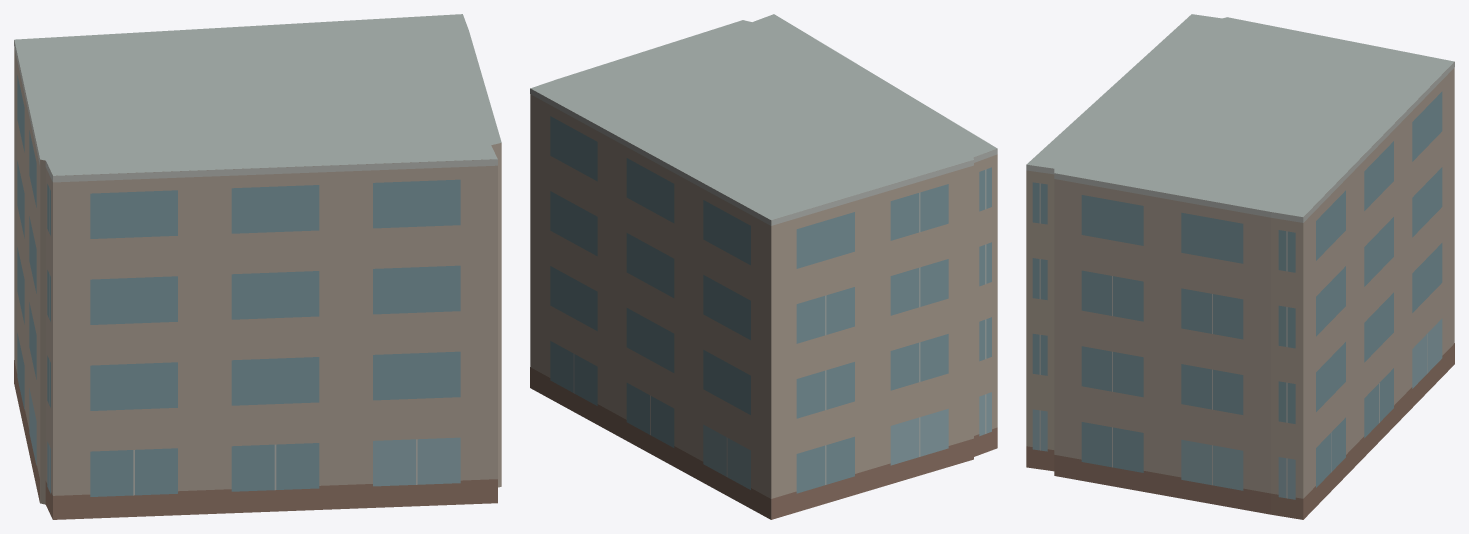
File: survey-upis-32633835.glb
The picture shows the model from 3 angles, left to right: view 1: azimuth 30°, elevation 25°; view 2: azimuth 150°, elevation 25°; view 3: azimuth 270°, elevation 25°; orthographic projection. The views are drawn at different scales.
Parts seen in each view (by area): view 1: survey-upis-32633835.tmp; view 2: survey-upis-32633835.tmp; view 3: survey-upis-32633835.tmp.
Boxes of the visible parts, left/top/right/bottom form: survey-upis-32633835.tmp: left=14, top=14, right=501, bottom=519; survey-upis-32633835.tmp: left=530, top=14, right=997, bottom=519; survey-upis-32633835.tmp: left=1026, top=14, right=1454, bottom=519.
Bounding box in the file's own units: 18.44 × 12.8 × 16.43.
